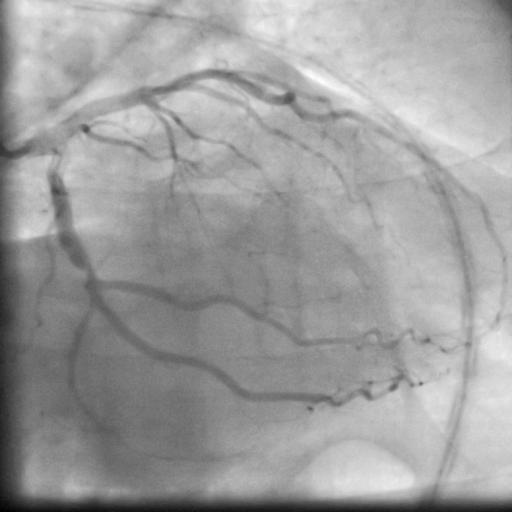Stenosis: (77, 264, 98, 277)
